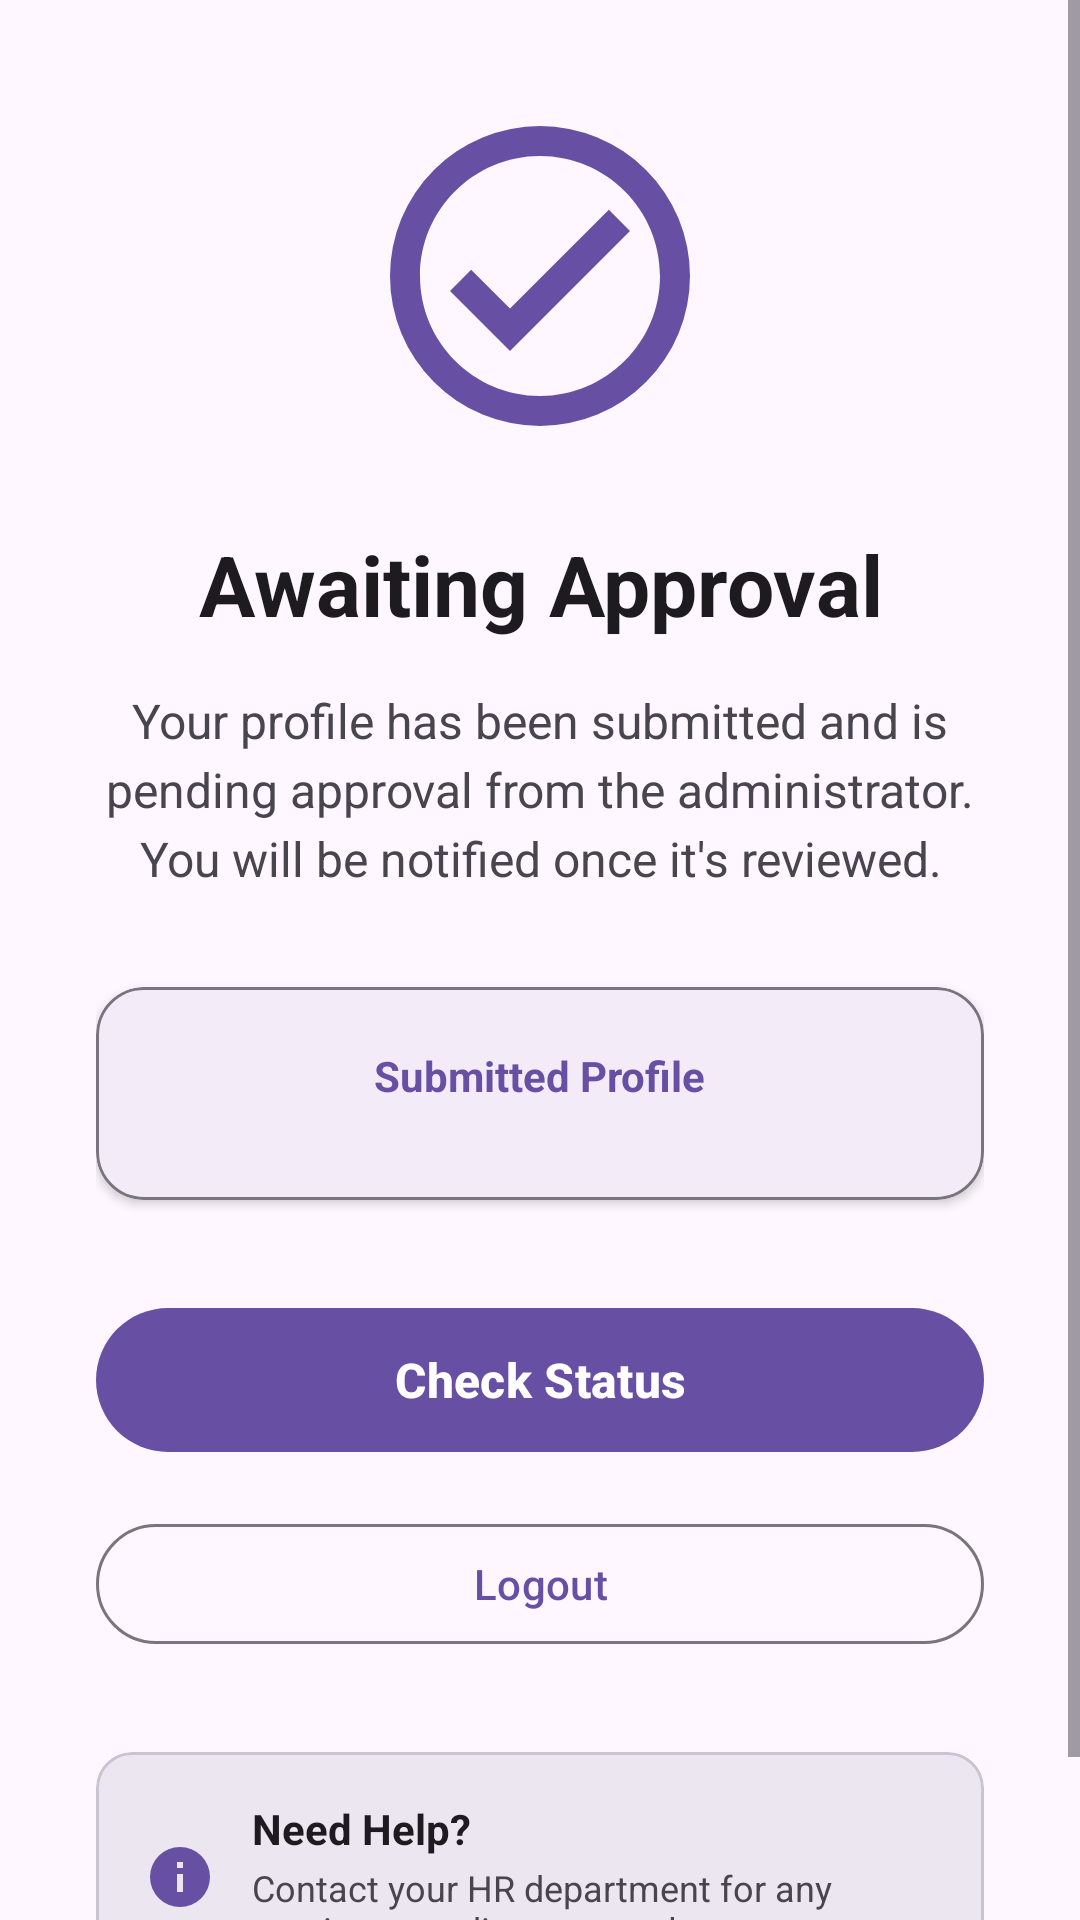

Screen size 1080w x 1920h. Icon name, then its box in pixels as (x1, y1, x2, y2):
info: (150, 1847, 210, 1907)
